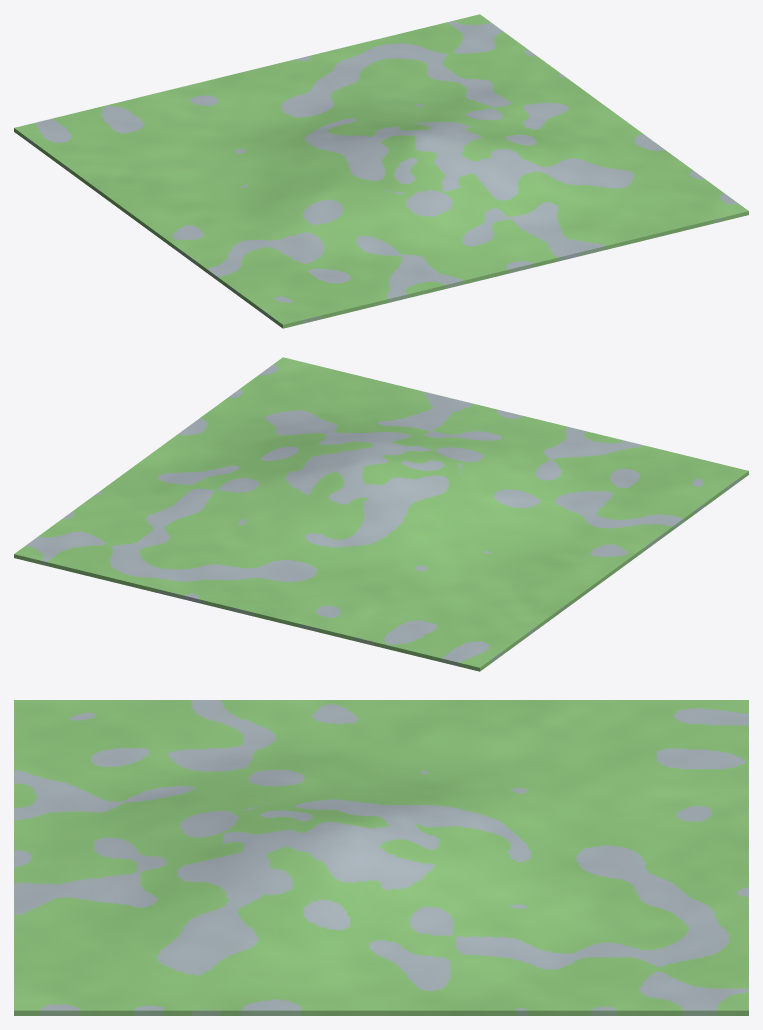
The model's file is Grass_RockyGround_02.obj.
3 views of the same model, one above another, from view 1: azimuth 30°, elevation 25°; view 2: azimuth 150°, elevation 25°; view 3: azimuth 270°, elevation 25° (orthographic). The views are drawn at different scales.
Bounding box in the file's own units: 10 × 0.7838 × 10.
1 material, 1 textured.
